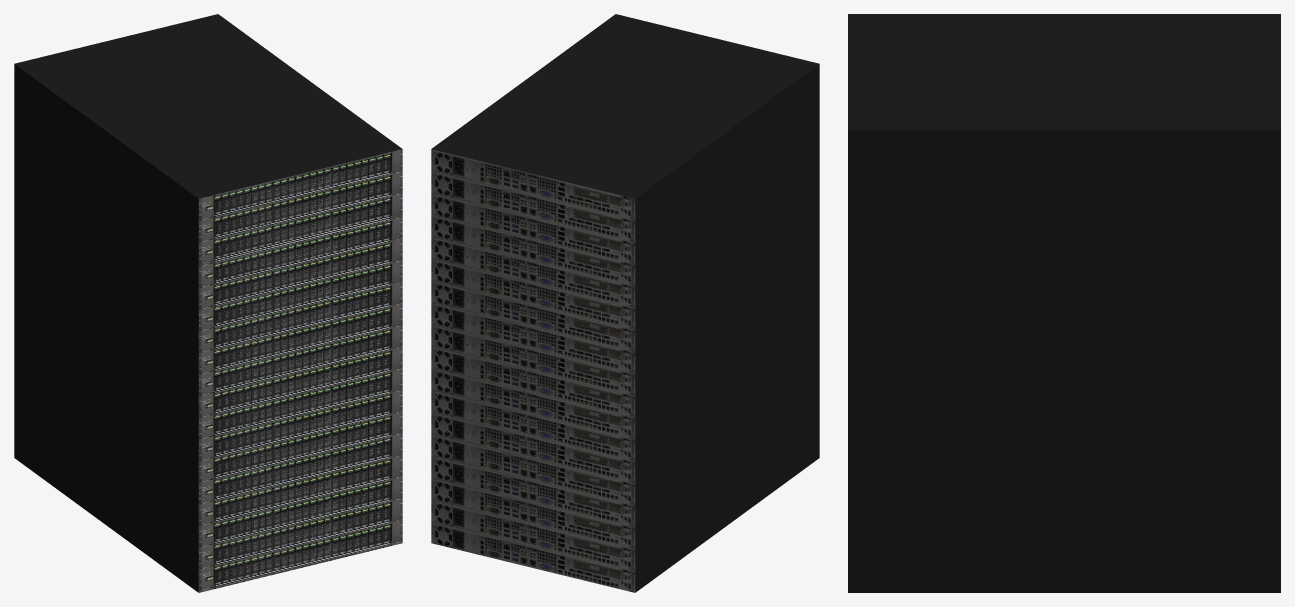
The model's file is NDR18.fbx.
3 views of the same model, side by side, from view 1: azimuth 30°, elevation 25°; view 2: azimuth 150°, elevation 25°; view 3: azimuth 270°, elevation 25° (orthographic). The views are drawn at different scales.
Parts seen in each view (by area): view 1: NDR18; view 2: NDR18; view 3: NDR18.
Boxes of the visible parts, bbox=[...] form: NDR18: bbox=[14, 14, 402, 592]; NDR18: bbox=[431, 14, 819, 592]; NDR18: bbox=[848, 14, 1280, 592].
Size of the model in its own units: 434 by 801 by 680.
3 materials, 2 textured.
